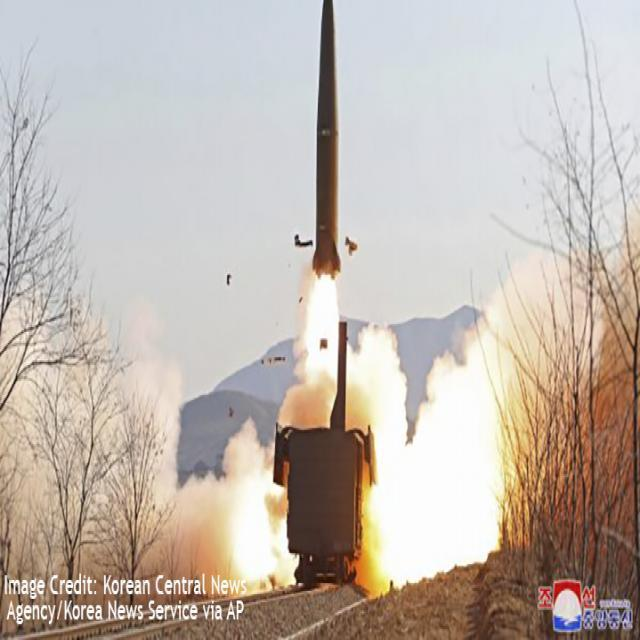Missile: (310, 2, 343, 283)
